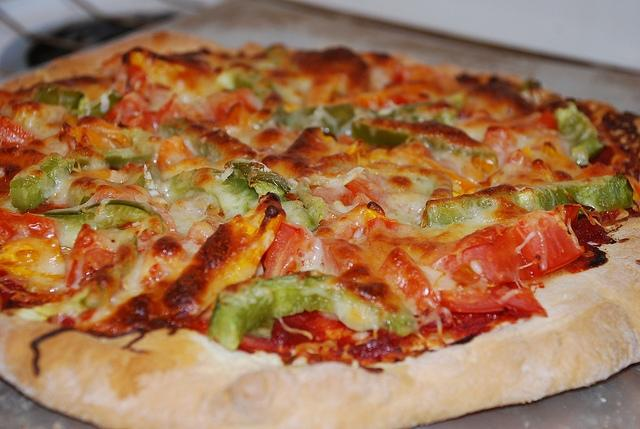bell pepper: (206, 274, 418, 350), (426, 185, 580, 228), (157, 167, 259, 214), (35, 200, 168, 230), (9, 156, 75, 212), (552, 100, 603, 168), (78, 164, 162, 204), (259, 104, 357, 138), (34, 84, 122, 120), (564, 173, 634, 212), (364, 100, 458, 126), (224, 160, 291, 196), (350, 118, 410, 147), (234, 73, 267, 101), (104, 154, 152, 168)
tomato: (458, 219, 584, 283), (378, 247, 438, 316), (441, 281, 544, 313), (264, 223, 308, 278), (66, 224, 95, 286), (136, 93, 178, 134), (486, 110, 558, 132), (215, 88, 258, 122), (344, 170, 386, 204), (0, 116, 41, 150), (11, 213, 57, 240), (102, 98, 140, 126), (82, 247, 116, 276), (142, 82, 172, 106), (122, 90, 150, 115), (378, 93, 410, 109)
